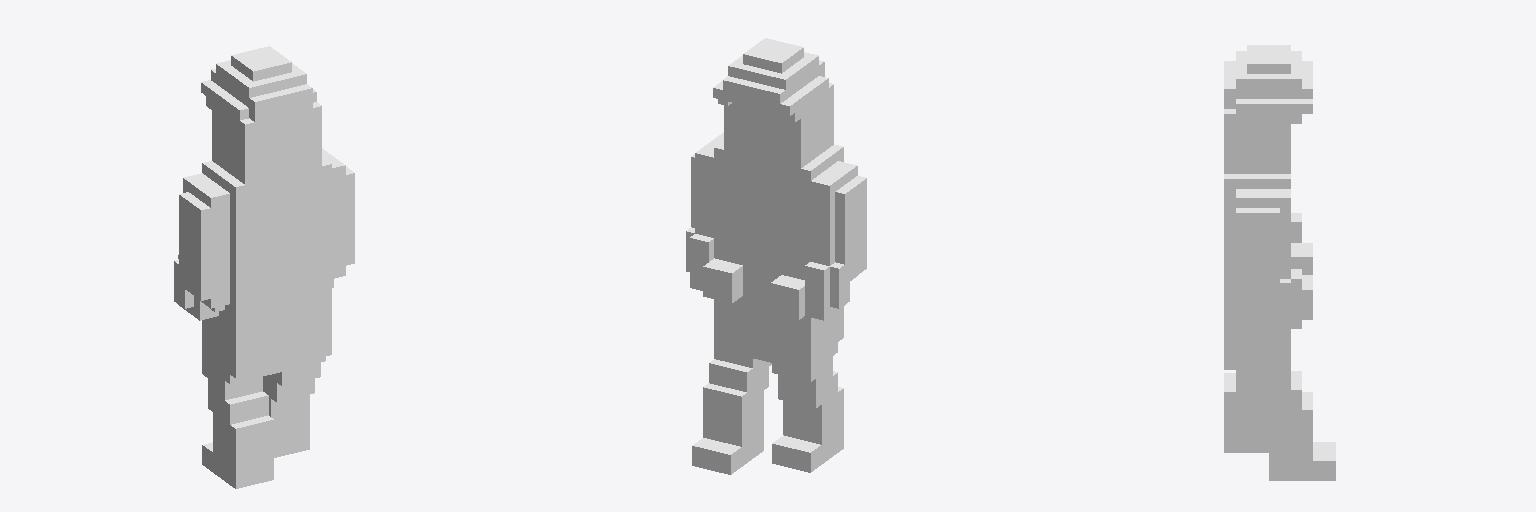
The model's file is person-3.obj.
3 renders of one model, left to right at view 1: azimuth 30°, elevation 25°; view 2: azimuth 150°, elevation 25°; view 3: azimuth 270°, elevation 25°, orthographic.
Parts seen in each view (by area): view 1: object 1; view 2: object 1; view 3: object 1.
Part boxes in pixels (left/top/right/bottom): object 1: left=174, top=46, right=354, bottom=488; object 1: left=686, top=38, right=866, bottom=474; object 1: left=1224, top=45, right=1335, bottom=480.
Bounding box in the file's own units: 1.6 × 4 × 1.